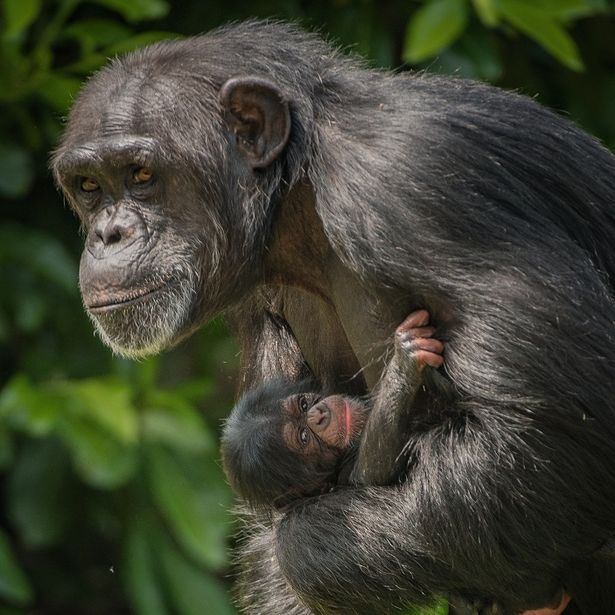Chimpanzee: (42, 33, 615, 611), (204, 361, 431, 491)
